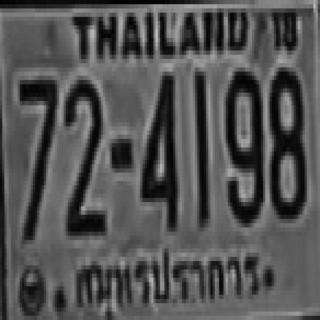N01: (193, 67, 206, 223)
N02: (65, 76, 104, 232)
N04: (140, 69, 175, 225)
N07: (18, 76, 55, 236)
N08: (267, 63, 305, 215)
N09: (224, 67, 261, 223)
P57: (74, 248, 274, 312)
